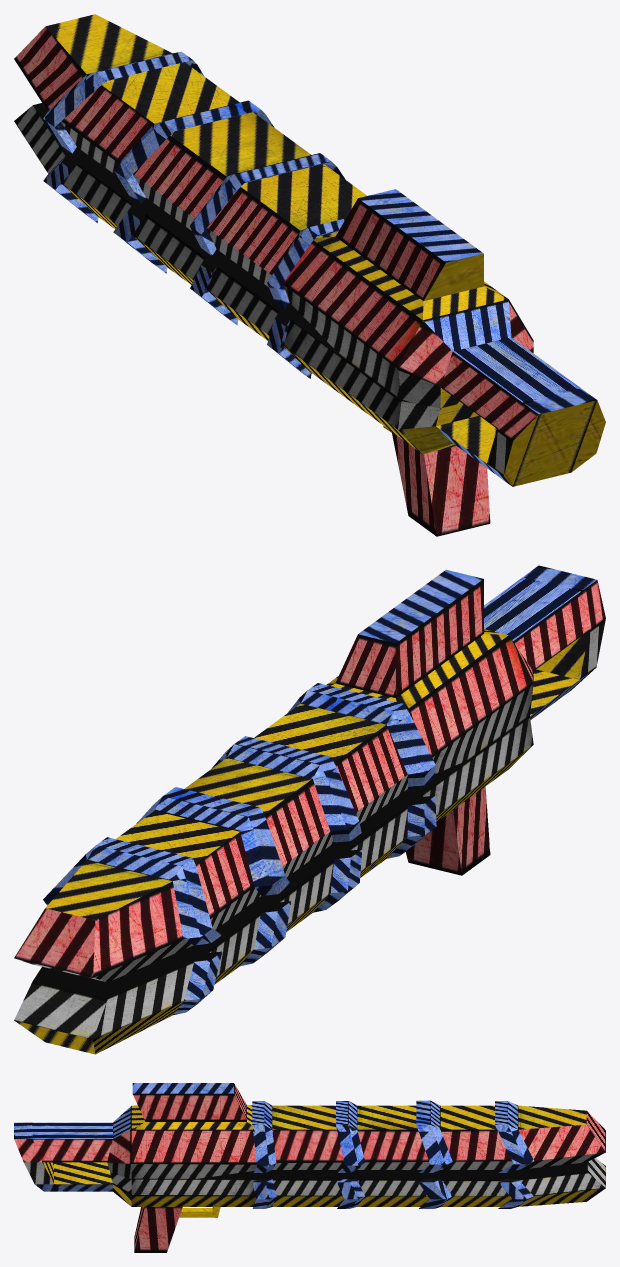
The model's file is Diskgun.fbx.
The picture shows the model from 3 angles, top to bottom: view 1: azimuth 30°, elevation 25°; view 2: azimuth 150°, elevation 25°; view 3: azimuth 270°, elevation 25°; orthographic projection. The views are drawn at different scales.
Parts seen in each view (by area): view 1: Diskgun; view 2: Diskgun; view 3: Diskgun.
Boxes of the visible parts, x1,y1,x2,y2 form: Diskgun: (14, 14, 605, 536); Diskgun: (14, 565, 605, 1054); Diskgun: (14, 1083, 605, 1252).
Bounding box in the file's own units: 1.24 × 2.04 × 6.98.
